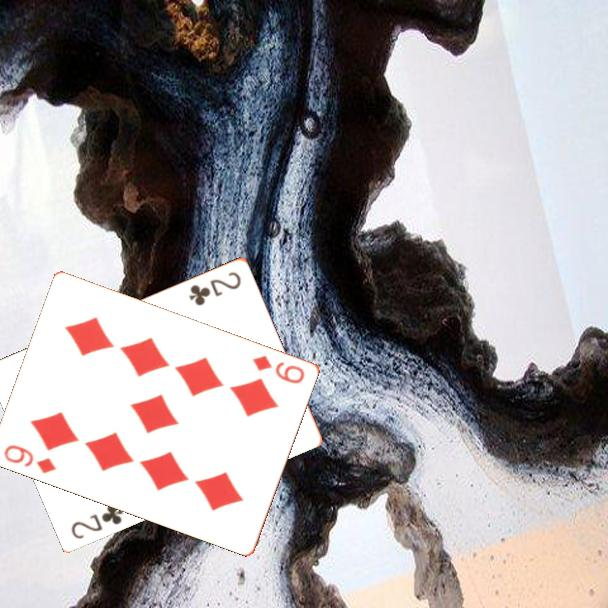c02: (68, 500, 126, 541), (185, 268, 244, 308)
d09: (250, 351, 308, 387), (1, 441, 59, 476)
